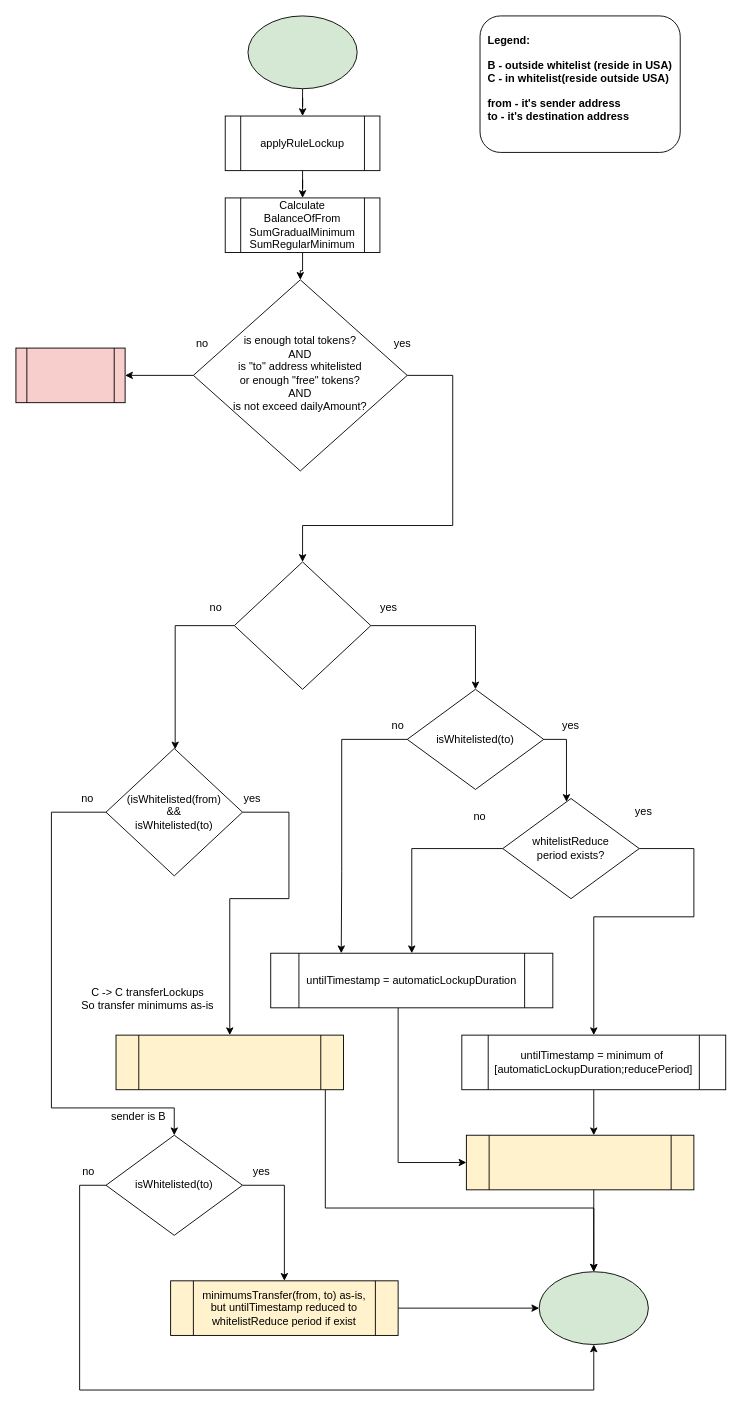
This 742x1413 diagram has some shape labels left out. The box of each missing label's shape, as (x1, y1, x2, y2) in pixels:
BEGIN: (247, 15, 357, 89)
create new minimum or append into exists until untilTimestamp: (465, 1134, 694, 1190)
Have "from" address automatic lockup?: (233, 561, 371, 689)
minimumsTransfer(from, to) as-is: (115, 1034, 344, 1090)
REVERT: (15, 347, 125, 403)
Transfer Tokens: (538, 1271, 648, 1345)
